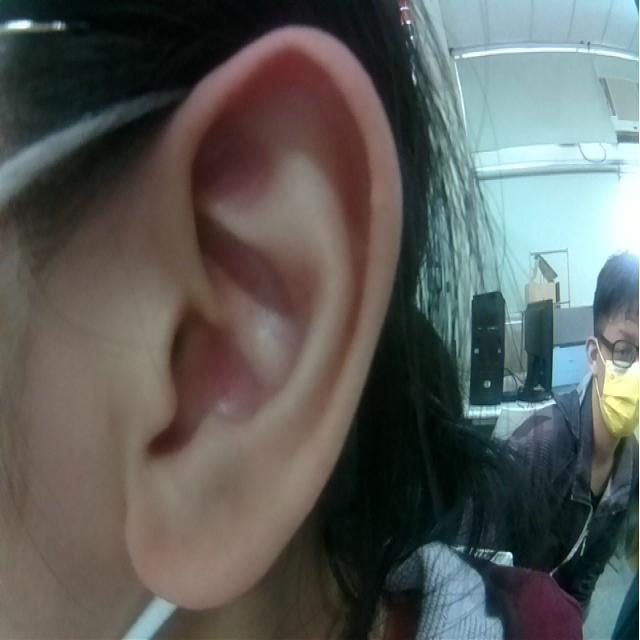no-earmuff: (120, 24, 401, 612)
